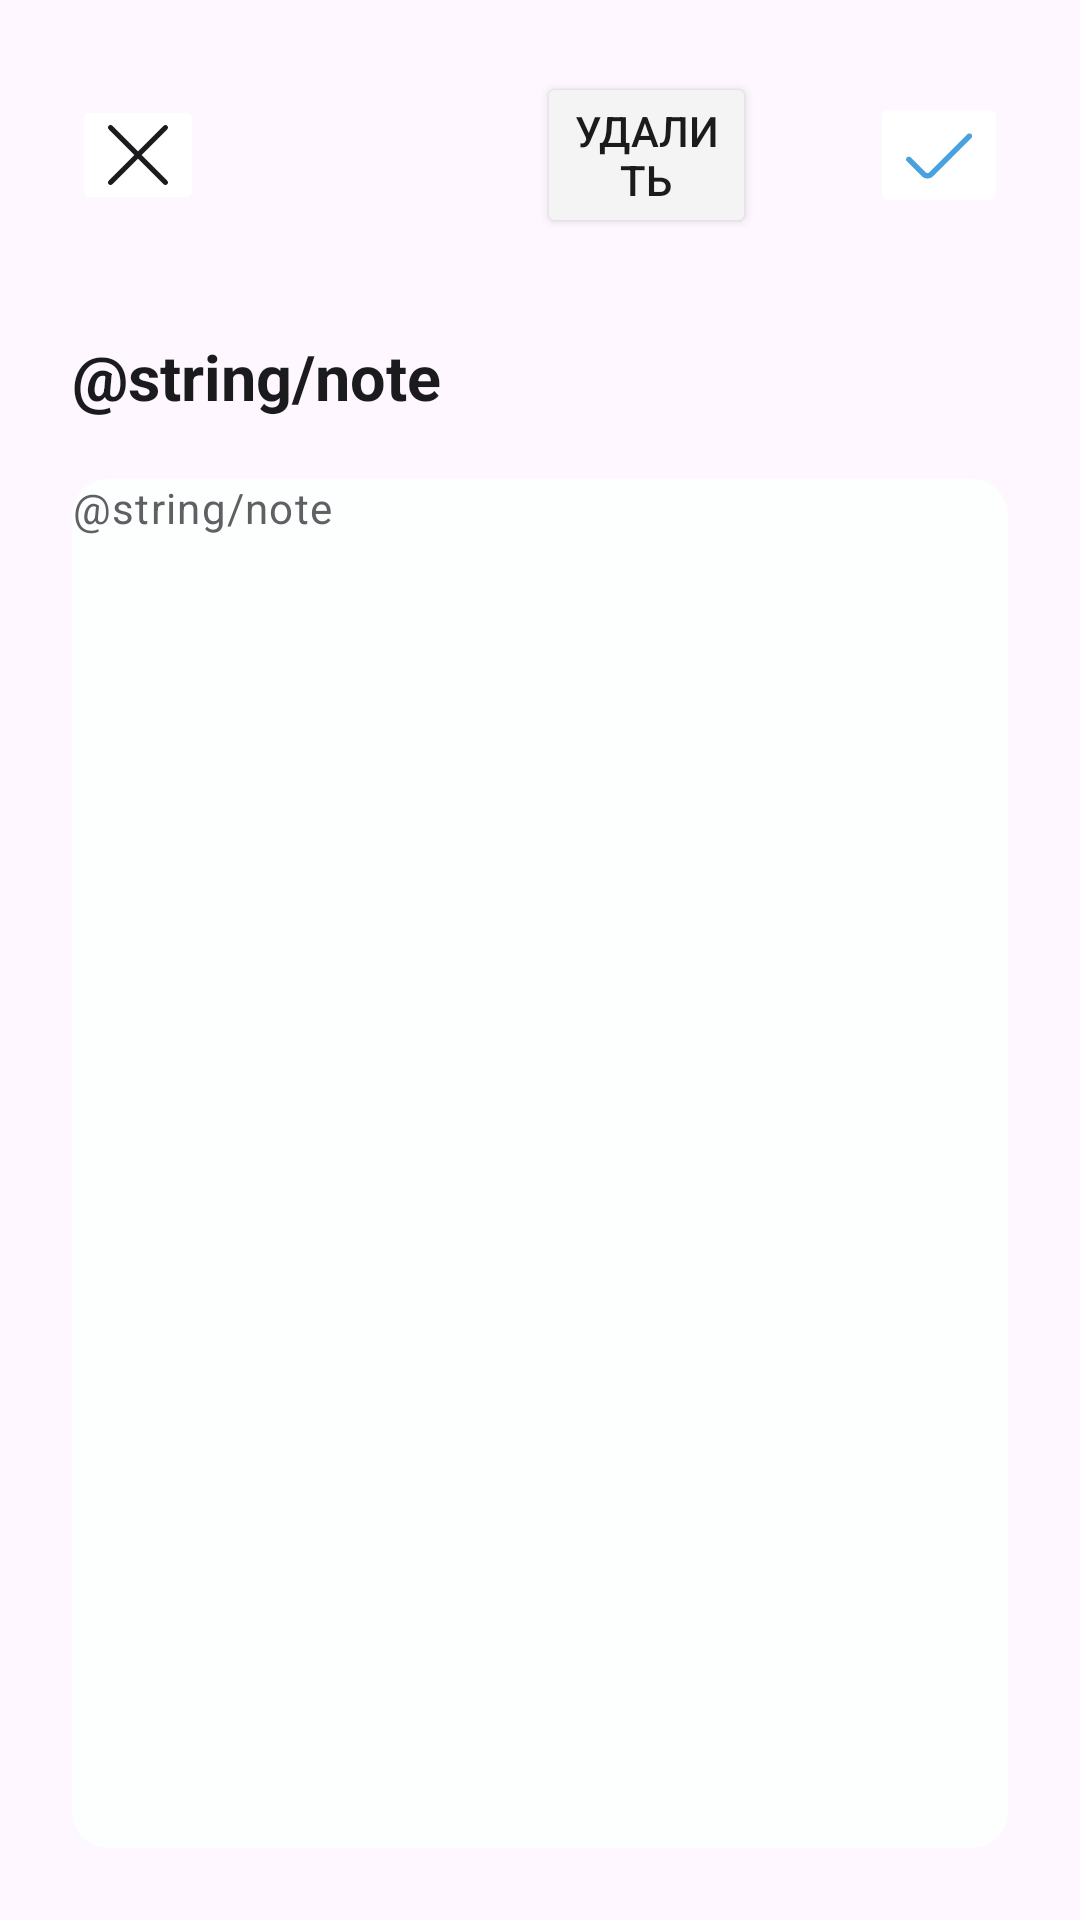

Where icons sit on this 1080x1920 app screen, as {"x1": x1, "y1": y1, "x2": x2, "y2": y2}:
Закрыть: {"x1": 108, "y1": 125, "x2": 168, "y2": 185}
Сохранить: {"x1": 906, "y1": 133, "x2": 972, "y2": 179}
